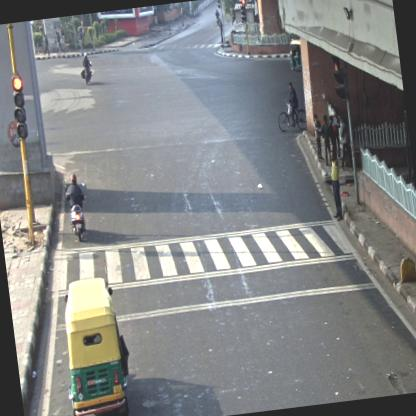motorcycle: (62, 169, 88, 242), (273, 83, 306, 133), (79, 52, 94, 83)
